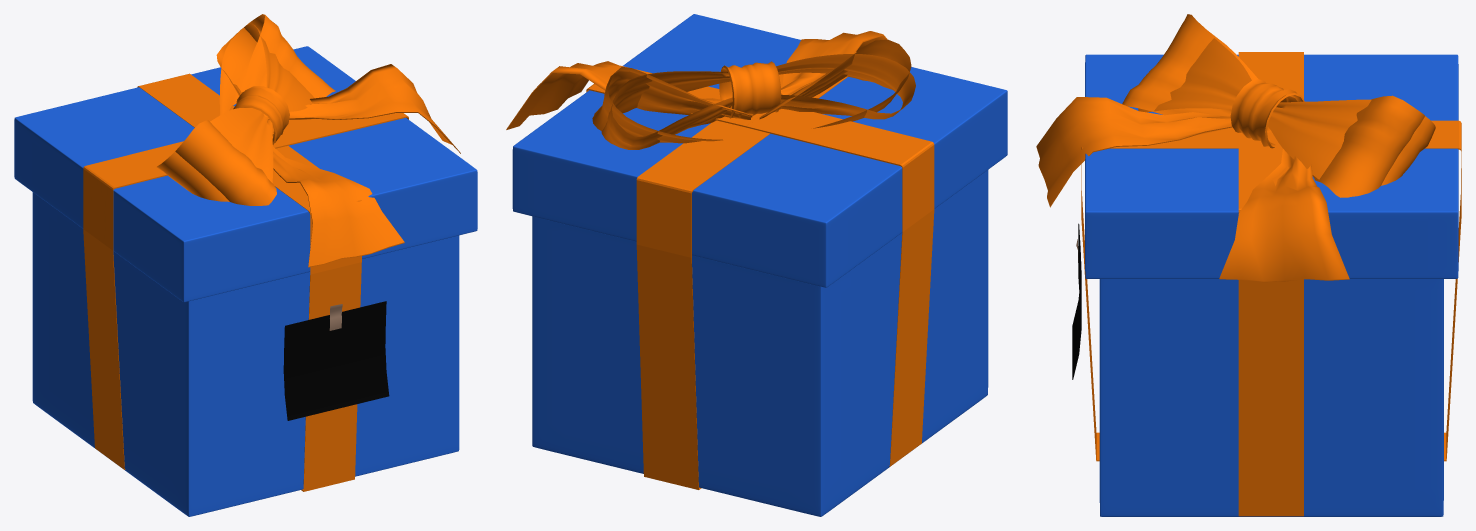
Rendered from gift5x.glb.
The picture shows the model from 3 angles, left to right: view 1: azimuth 30°, elevation 25°; view 2: azimuth 150°, elevation 25°; view 3: azimuth 270°, elevation 25°; orthographic projection. The views are drawn at different scales.
Parts seen in each view (by area): view 1: Cube004, Plane005, Plane012, Plane003, Plane002, Plane010.001, Plane010, Cylinder001; view 2: Cube004, Plane003, Plane005, Plane010, Plane010.001, Plane012, Cylinder001; view 3: Cube004, Plane005, Plane012, Plane010, Plane010.001, Plane003, Cylinder001, Plane002.
Boxes of the visible parts, bbox=[...] form: Cube004: bbox=[14, 46, 477, 516]; Plane005: bbox=[83, 113, 408, 469]; Plane012: bbox=[263, 64, 460, 267]; Plane003: bbox=[137, 73, 361, 491]; Plane002: bbox=[283, 301, 389, 420]; Plane010.001: bbox=[156, 108, 276, 205]; Plane010: bbox=[216, 14, 335, 115]; Cylinder001: bbox=[233, 86, 289, 144]; Cube004: bbox=[512, 14, 1007, 516]; Plane003: bbox=[636, 52, 856, 489]; Plane005: bbox=[586, 65, 934, 466]; Plane010: bbox=[592, 67, 753, 149]; Plane010.001: bbox=[759, 39, 915, 128]; Plane012: bbox=[506, 31, 887, 129]; Cylinder001: bbox=[719, 61, 781, 118]; Cube004: bbox=[1085, 54, 1458, 516]; Plane005: bbox=[1238, 52, 1303, 516]; Plane012: bbox=[1036, 97, 1349, 282]; Plane010: bbox=[1268, 95, 1435, 197]; Plane010.001: bbox=[1122, 14, 1258, 116]; Plane003: bbox=[1081, 120, 1461, 461]; Cylinder001: bbox=[1230, 79, 1304, 148]; Plane002: bbox=[1072, 223, 1081, 379].
Size of the model in its own units: 2.58 by 2.5 by 2.47.
